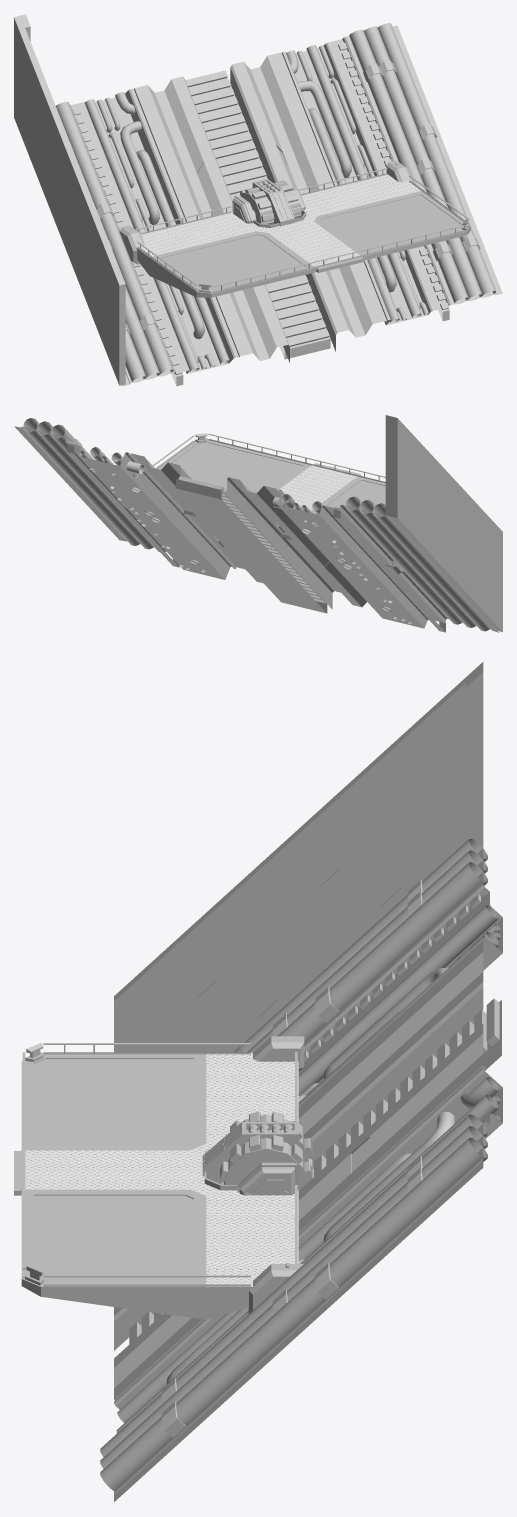
Rendered from Elevator.fbx.
3 views of the same model, one above another, from view 1: azimuth 30°, elevation 25°; view 2: azimuth 150°, elevation 25°; view 3: azimuth 270°, elevation 25° (orthographic). The views are drawn at different scales.
Visible parts, largest first — view 1: Tiling Floor, Main Platform, Tiling Wall, Grates, Cogs, Railing Tops.001; view 2: Tiling Floor, Tiling Wall, Grates, Main Platform, Railing Tops.001; view 3: Tiling Floor, Tiling Wall, Main Platform, Grates, Cogs.
Part boxes in pixels (x1,y1,x2,y2): Tiling Floor: (56,23,502,386); Main Platform: (119,160,470,297); Tiling Wall: (14,14,125,385); Grates: (162,195,462,290); Cogs: (240,180,301,224); Railing Tops.001: (212,225,465,287); Tiling Floor: (14,418,499,632); Tiling Wall: (385,415,502,631); Grates: (172,442,385,507); Main Platform: (116,433,403,574); Railing Tops.001: (208,433,385,477); Tiling Floor: (100,839,502,1501); Tiling Wall: (114,662,483,1052); Main Platform: (14,1036,304,1319); Grates: (34,1059,193,1281); Cogs: (220,1111,312,1190).
Size of the model in its own units: 52.95 by 83.99 by 65.
